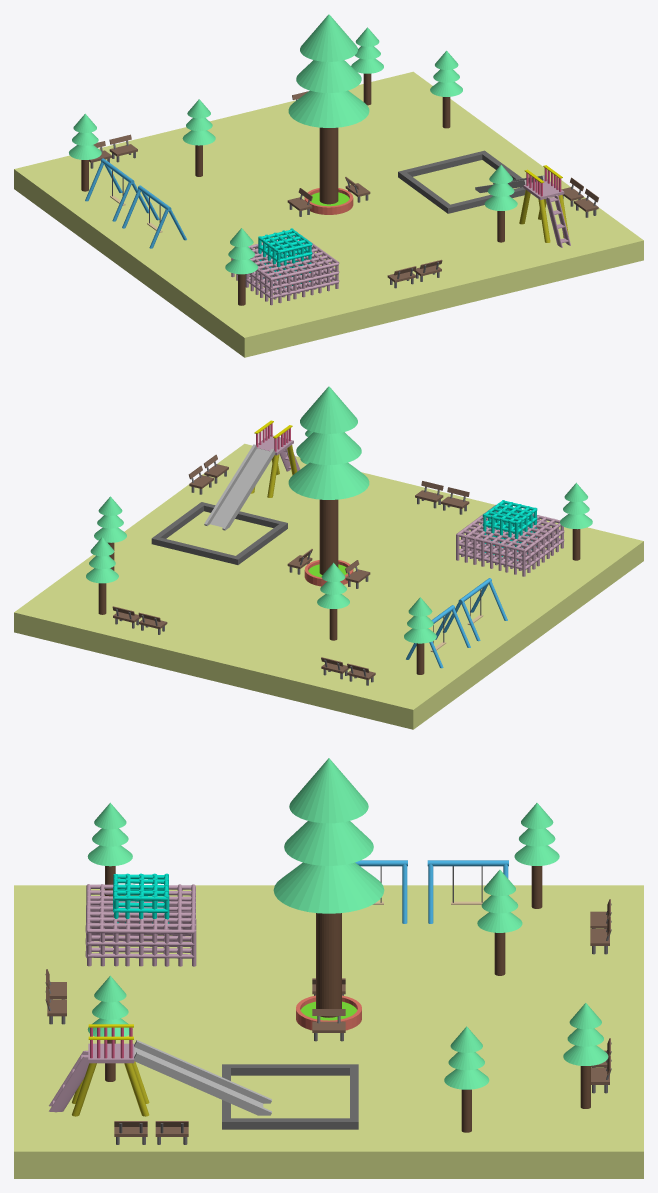
The model's file is park_eco_model.fbx.
3 views of the same model, one above another, from view 1: azimuth 30°, elevation 25°; view 2: azimuth 150°, elevation 25°; view 3: azimuth 270°, elevation 25° (orthographic). The views are drawn at different scales.
Parts seen in each view (by area): view 1: 立方体; view 2: 立方体; view 3: 立方体.
Part boxes in pixels (bbox=[...]): 立方体: bbox=[14, 14, 643, 357]; 立方体: bbox=[14, 386, 643, 729]; 立方体: bbox=[14, 758, 643, 1178].
Bounding box in the file's own units: 2743 × 1381 × 2743.
